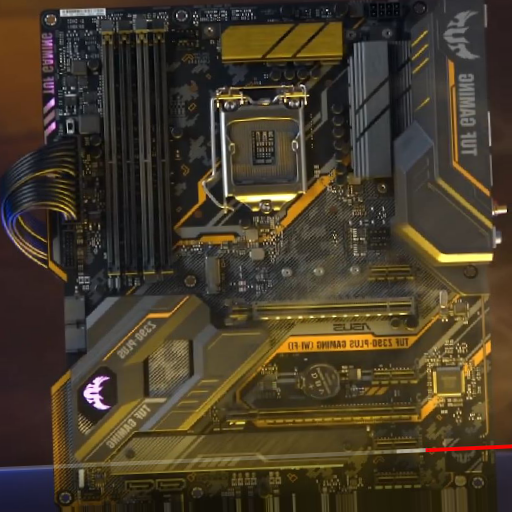CPU: (219, 81, 307, 216)
GPU: (219, 400, 423, 431), (223, 294, 417, 326)
MOTHERBOARD: (53, 4, 495, 509)
RAM: (97, 16, 175, 287)
SSD: (201, 256, 228, 298)
